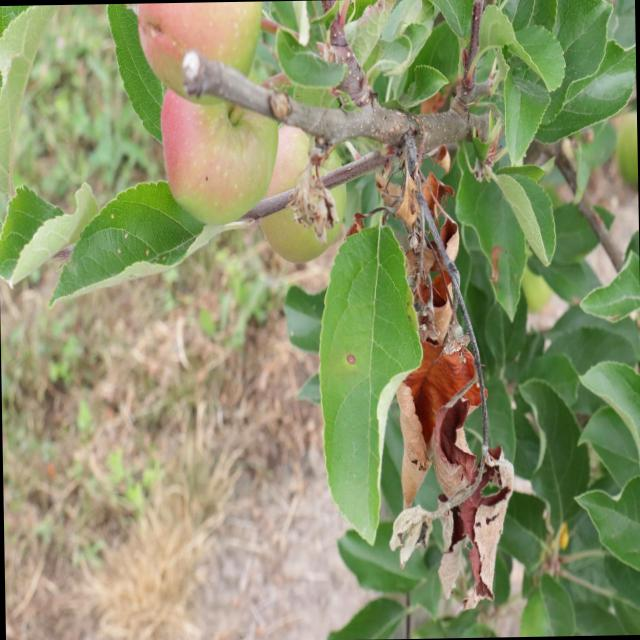-FireBlight-: (384, 143, 506, 604)
